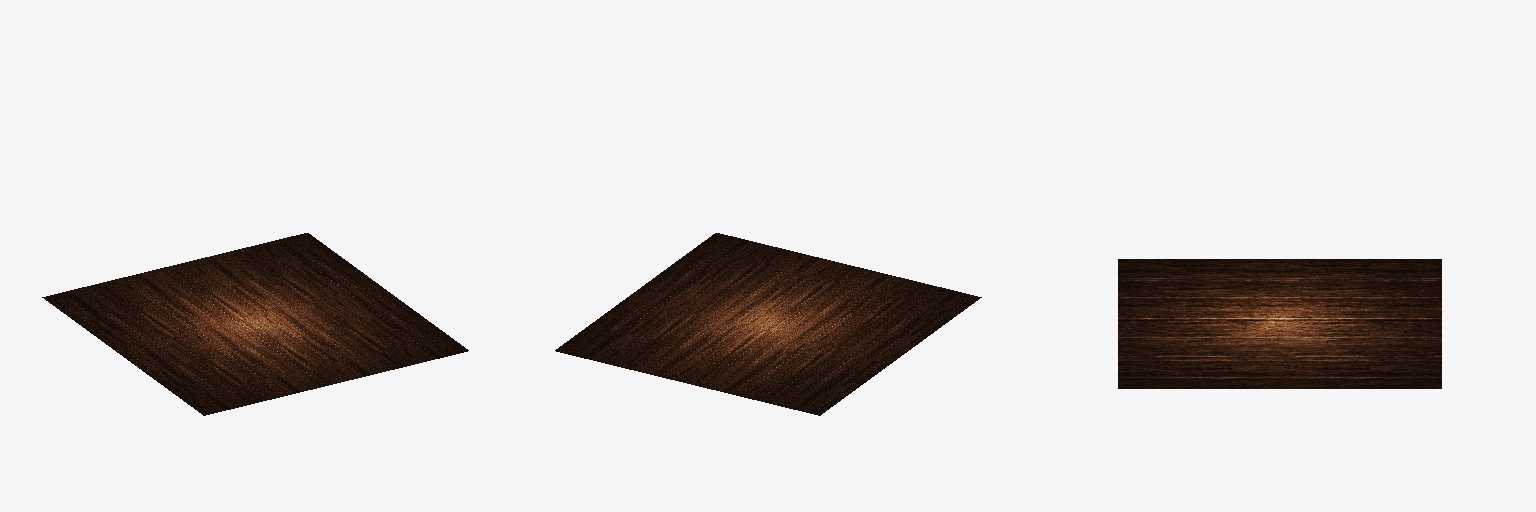
3 views of the same model, side by side, from view 1: azimuth 30°, elevation 25°; view 2: azimuth 150°, elevation 25°; view 3: azimuth 270°, elevation 25° (orthographic).
Parts seen in each view (by area): view 1: pPlane1; view 2: pPlane1; view 3: pPlane1.
Boxes of the visible parts, <box> form: pPlane1: <box>42,233,468,415</box>; pPlane1: <box>555,233,981,415</box>; pPlane1: <box>1118,259,1441,388</box>.
Bounding box in the file's own units: 112 × 54.74 × 118.
2 materials, 1 textured.